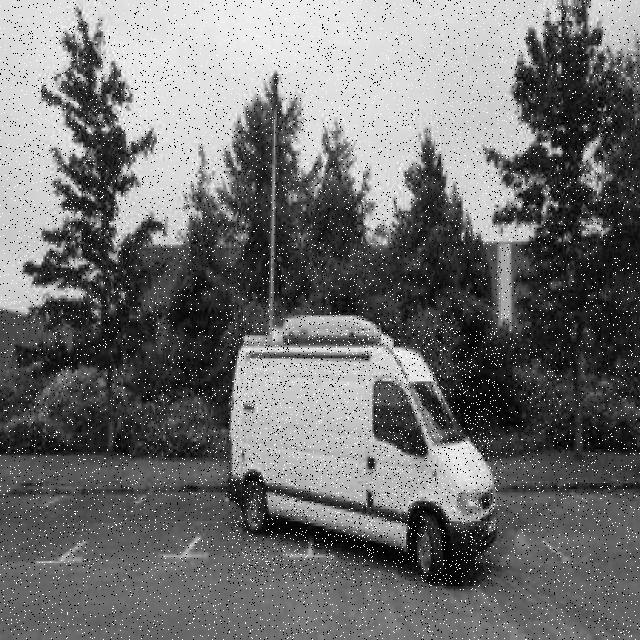Van: (227, 316, 497, 586)
